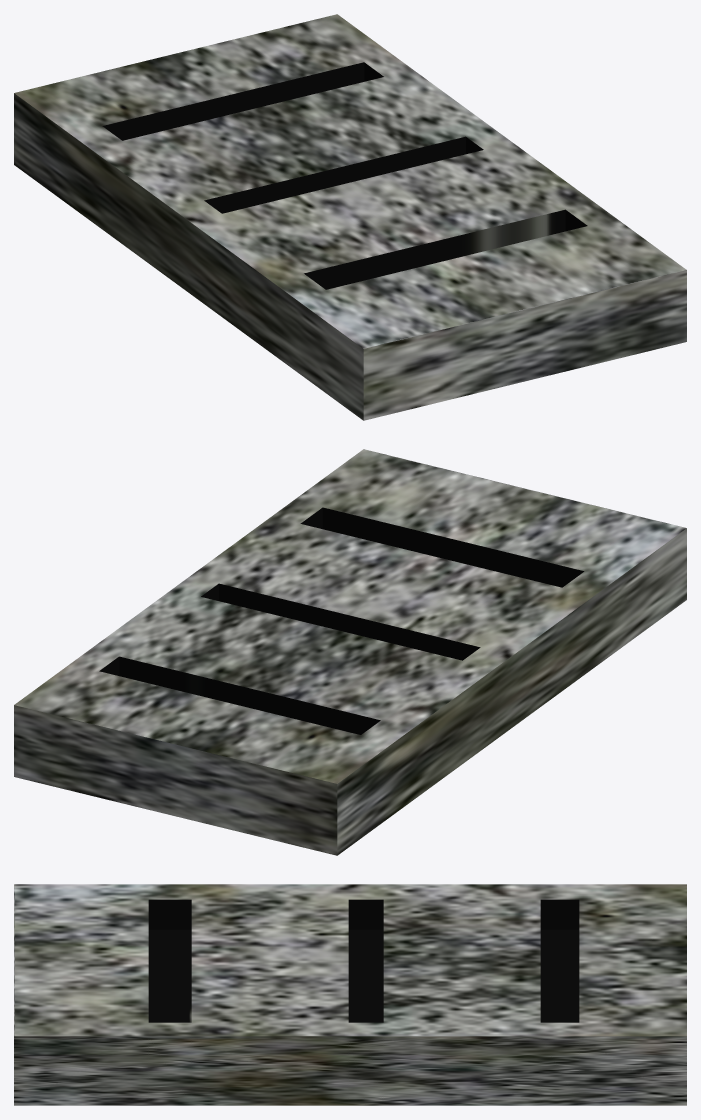
The model's file is alcantarilla definitiva 1.fbx.
3 renders of one model, top to bottom at view 1: azimuth 30°, elevation 25°; view 2: azimuth 150°, elevation 25°; view 3: azimuth 270°, elevation 25°, orthographic. The views are drawn at different scales.
Visible parts, largest first — view 1: trabajo_:Alcantarillado; view 2: trabajo_:Alcantarillado; view 3: trabajo_:Alcantarillado.
Boxes of the visible parts, x1,y1,x2,y2 form: trabajo_:Alcantarillado: [14, 14, 686, 420]; trabajo_:Alcantarillado: [14, 449, 686, 855]; trabajo_:Alcantarillado: [14, 884, 686, 1105].
Size of the model in its own units: 0.3558 by 0.0756 by 0.6664.
